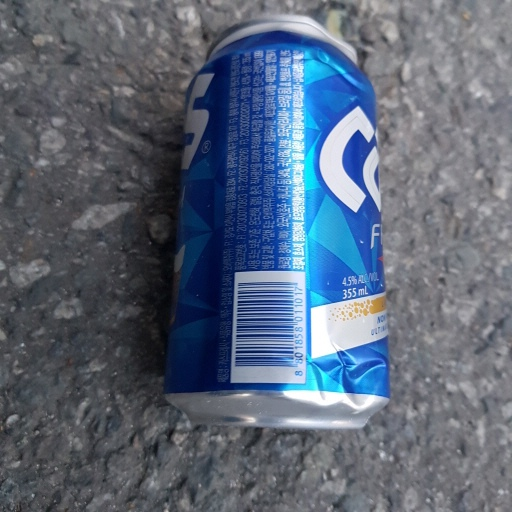Metal_0: (162, 14, 394, 431)
